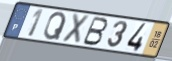1: (26, 8, 45, 39)
3: (106, 20, 128, 49)
4: (125, 22, 148, 54)
B: (80, 16, 109, 47)
Q: (42, 11, 68, 42)
X: (60, 12, 92, 46)
